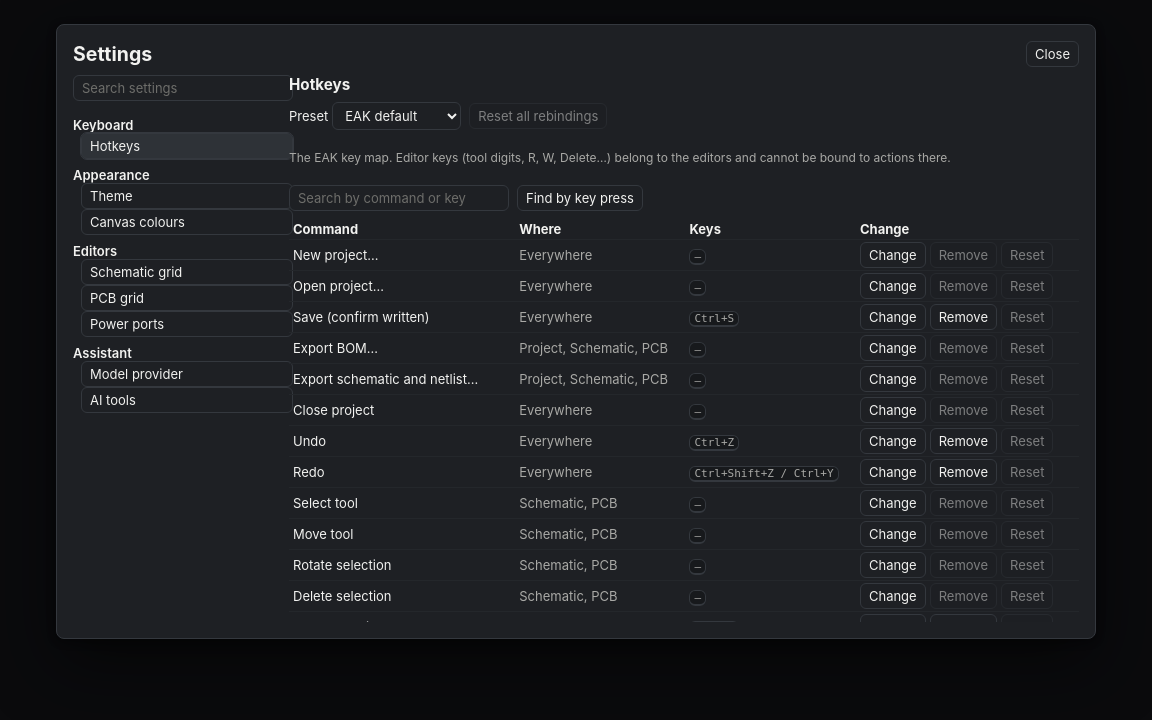
Test: settings dialog › the tree search filters pages
In the search field labelled "Search settings": {"x": 183, "y": 88} x1=73 y1=75 x2=293 y2=101, type "paper"
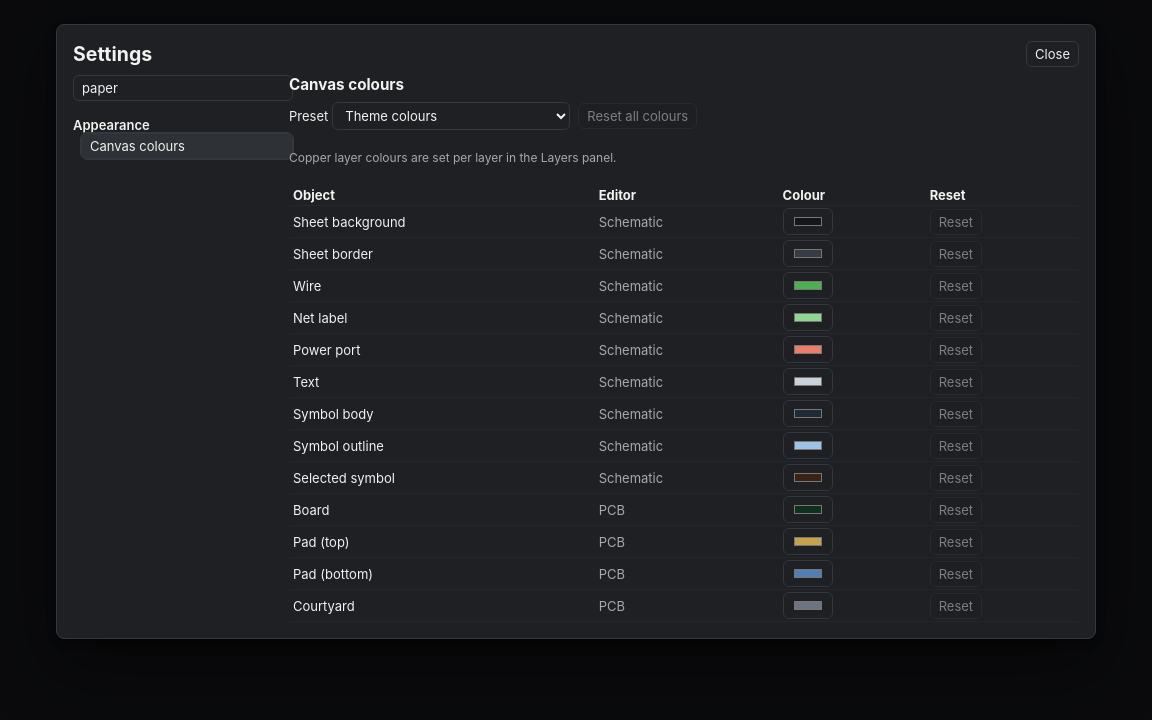
expect the button "Canvas colours" is shown: met, box x1=81 y1=133 x2=293 y2=159
expect the button "Hotkeys" is gone: met
expect the table named "Canvas colours" is shown: met, box x1=289 y1=185 x2=1079 y2=622
